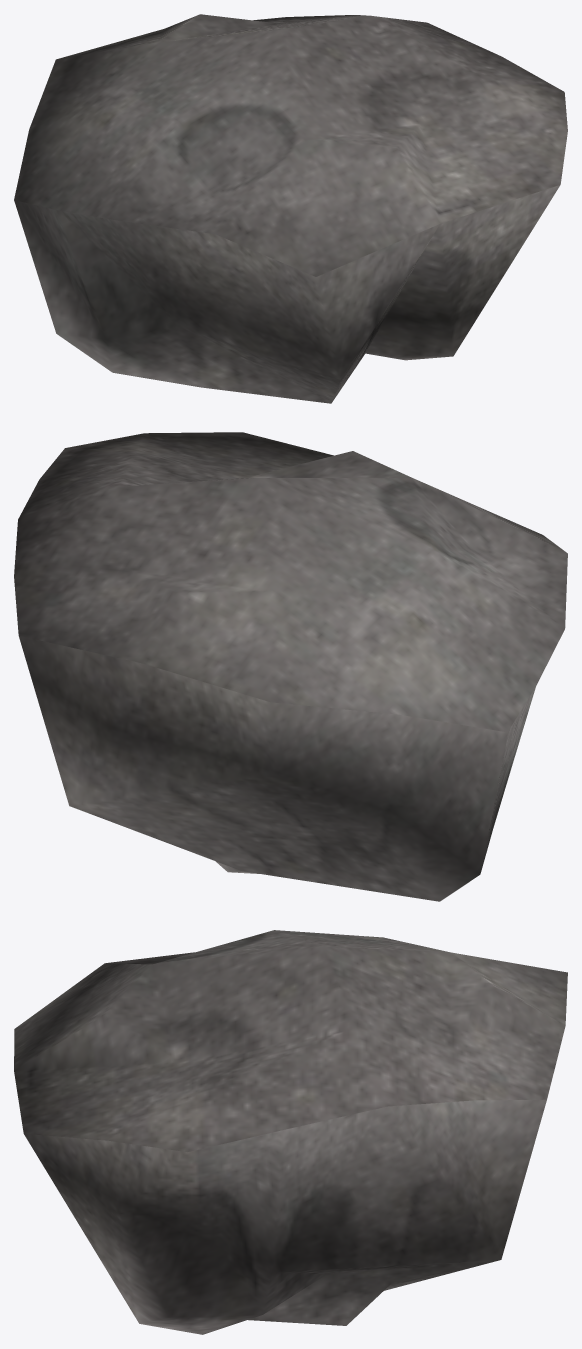
File: Asteroid_piece_01.FBX
3 renders of one model, top to bottom at view 1: azimuth 30°, elevation 25°; view 2: azimuth 150°, elevation 25°; view 3: azimuth 270°, elevation 25°, orthographic. The views are drawn at different scales.
Parts seen in each view (by area): view 1: Asteroid_piece_01; view 2: Asteroid_piece_01; view 3: Asteroid_piece_01.
Part boxes in pixels (x1,y1,x2,y2): Asteroid_piece_01: [14, 14, 567, 403]; Asteroid_piece_01: [14, 432, 567, 901]; Asteroid_piece_01: [14, 930, 567, 1334].
Size of what is drawn, in the model's own units: 24.16 by 16.39 by 22.22.
